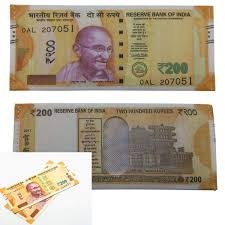twoHundred: (19, 20, 200, 78)
